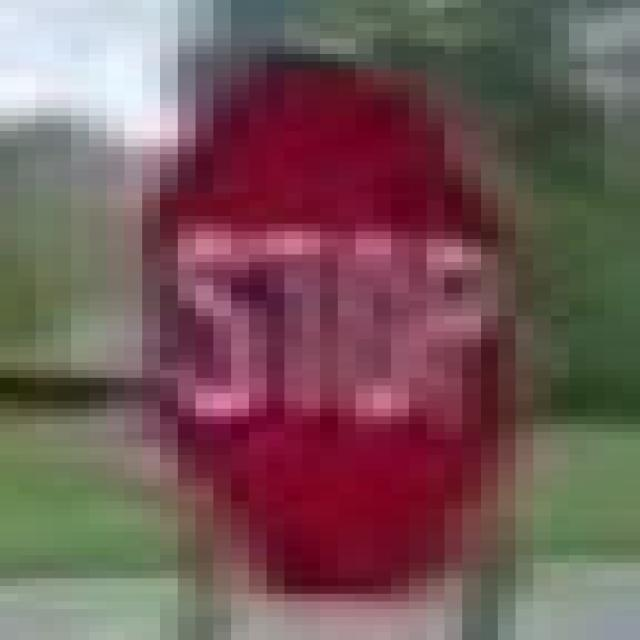Stop-Sign: (173, 70, 522, 586)
